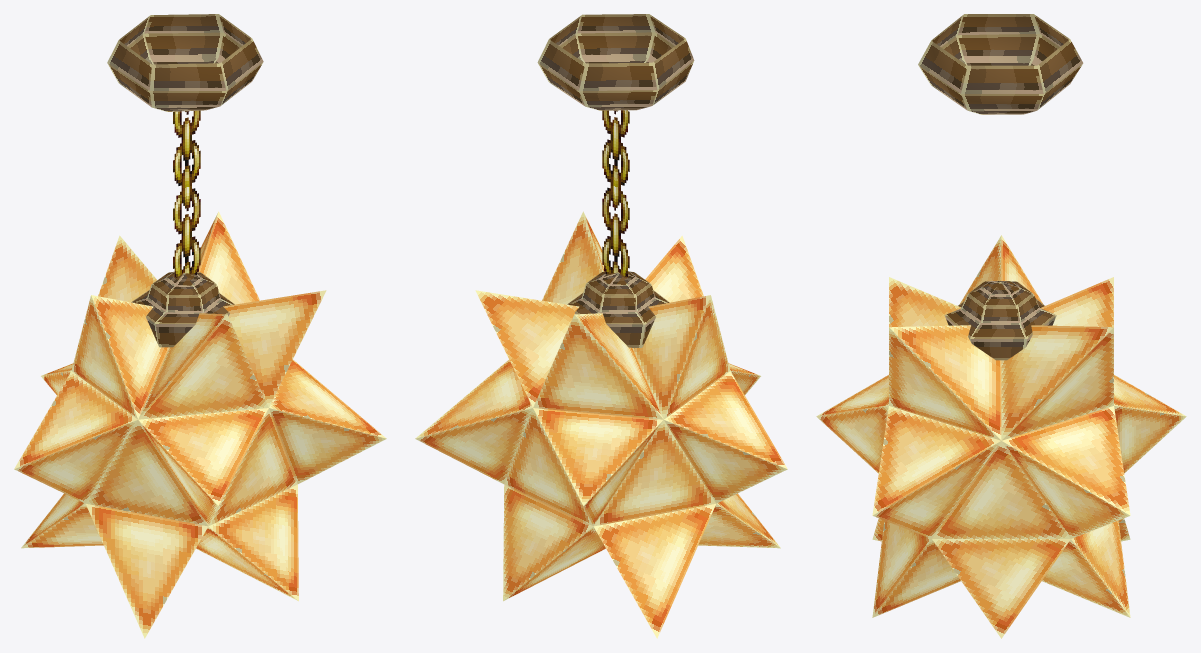
File: syan25.glb
The picture shows the model from 3 angles, left to right: view 1: azimuth 30°, elevation 25°; view 2: azimuth 150°, elevation 25°; view 3: azimuth 270°, elevation 25°; orthographic projection. The views are drawn at different scales.
Parts seen in each view (by area): view 1: syan25; view 2: syan25; view 3: syan25.
Part boxes in pixels (x1,y1,x2,y2): syan25: (14,14,386,638); syan25: (415,14,787,638); syan25: (816,14,1186,638).
Size of the model in its own units: 113 by 184 by 112.
Materials: 2 (2 with a texture image).
